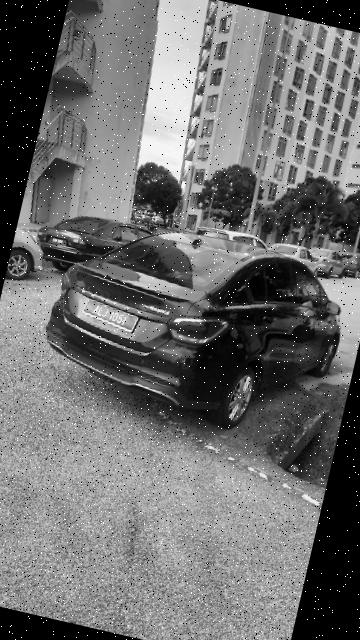License_Plate: (81, 295, 145, 337)
car: (25, 201, 360, 454)
